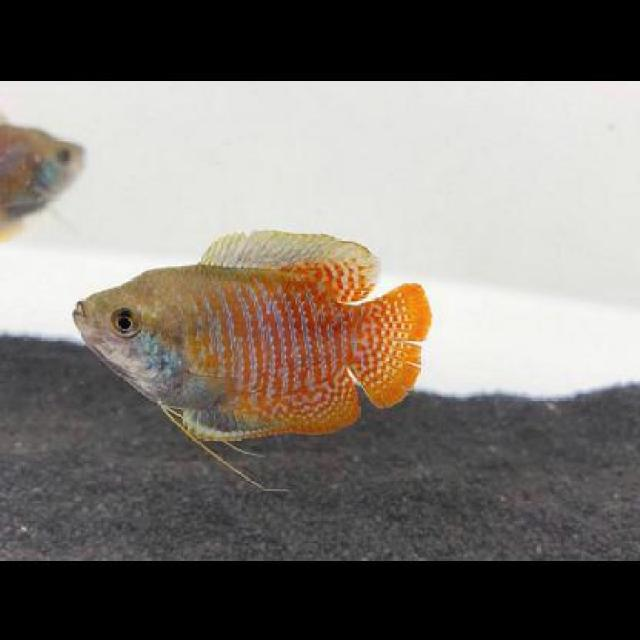Gourami: (66, 223, 432, 448)
